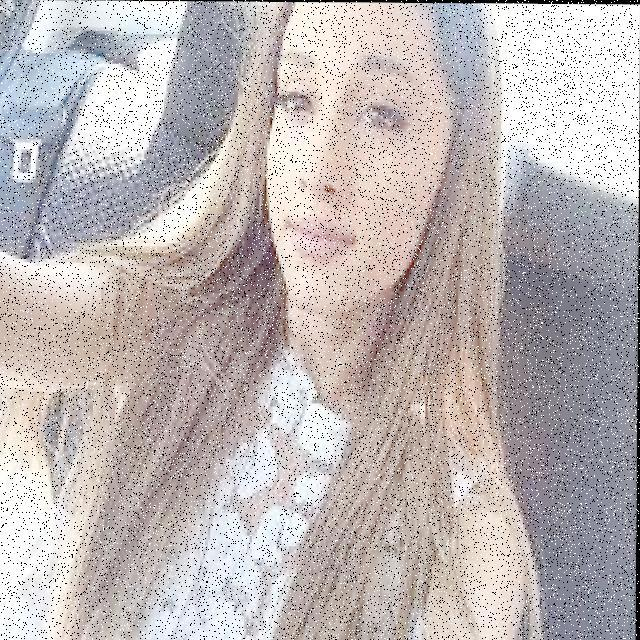noSeatbelt: (61, 228, 498, 640)
